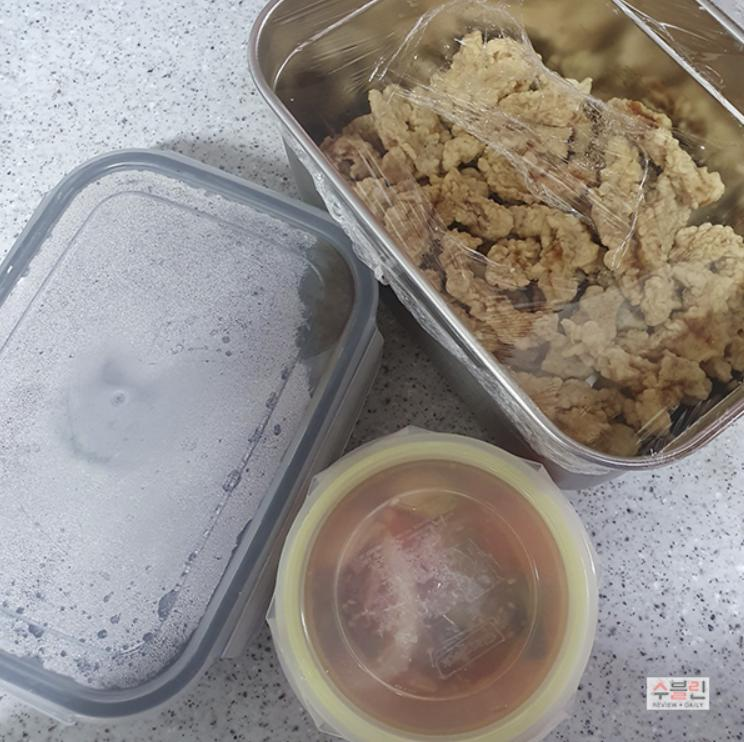Lunch Box: (249, 0, 743, 483)
